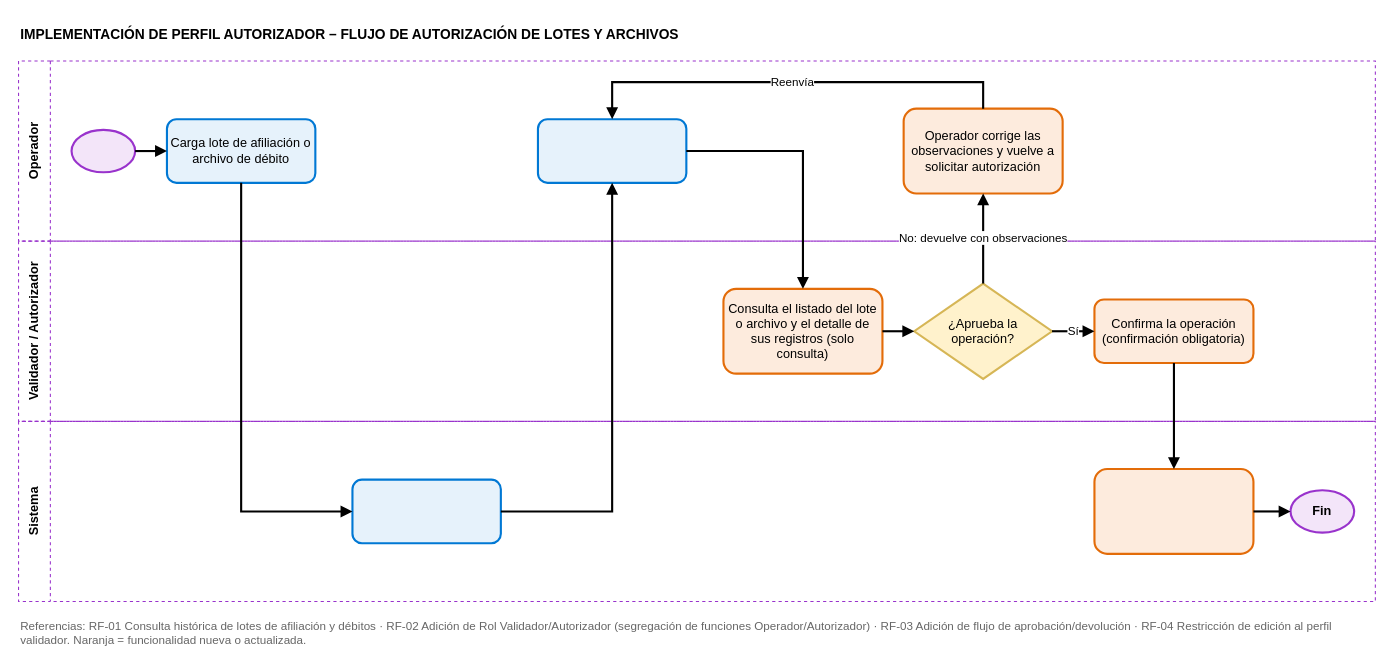
This 1394x672 diagram has some shape labels left out. Each missing label, with the box of its shape:
Inicio: (70, 128, 136, 173)
Libera la operación: afiliación de clientes y débito automático: (1093, 467, 1254, 554)
Registra el lote y lo deja pendiente de autorización: (351, 478, 501, 544)
Solicita autorización del lote o archivo: (536, 118, 687, 183)
